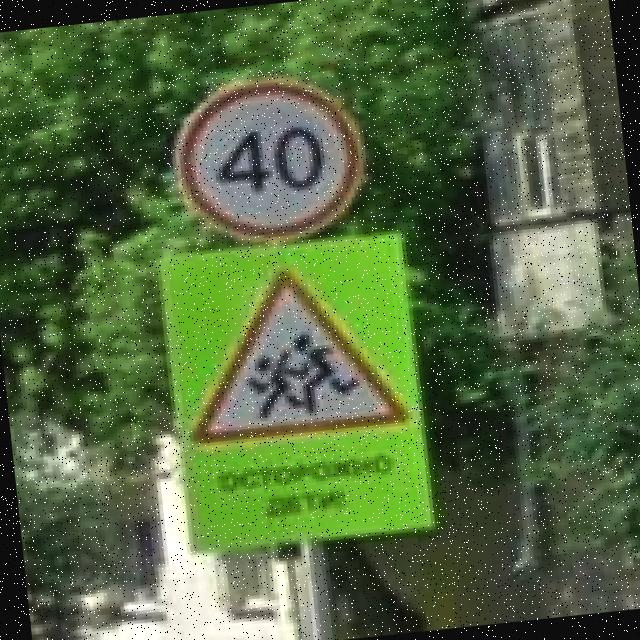Dzieci: (172, 255, 412, 447)
Ograniczenie predkosci do 40: (168, 73, 378, 252)
